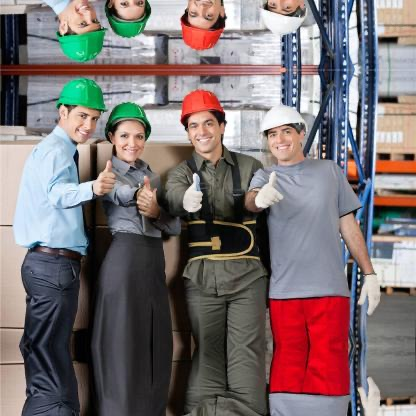Safety Helmet: (52, 73, 104, 151), (176, 87, 232, 158), (53, 1, 110, 67), (257, 102, 313, 169), (104, 98, 155, 163), (175, 1, 232, 53), (255, 1, 319, 43), (103, 1, 158, 40)
